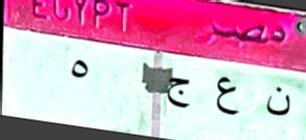5: (65, 56, 96, 87)
ain: (211, 72, 240, 119)
jeem: (165, 73, 195, 113)
noon: (261, 85, 294, 118)
